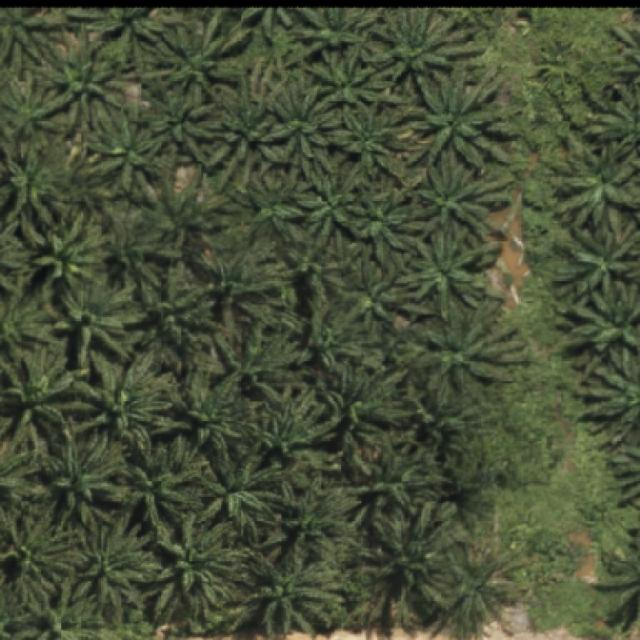Kelapa_Sawit: (20, 22, 125, 143), (409, 67, 523, 173), (34, 422, 132, 535), (138, 162, 233, 278), (361, 497, 457, 611), (418, 313, 532, 404), (72, 348, 179, 444), (150, 519, 256, 615), (107, 434, 208, 534), (399, 229, 506, 322), (244, 541, 345, 639), (150, 8, 252, 104), (537, 136, 638, 232), (46, 280, 151, 371), (16, 204, 115, 298), (165, 360, 263, 454), (83, 105, 169, 212), (194, 444, 301, 530), (208, 324, 312, 408), (68, 520, 162, 611), (373, 6, 485, 82), (275, 473, 362, 570), (443, 536, 525, 638), (349, 438, 454, 516), (413, 155, 507, 242), (127, 276, 228, 352), (189, 248, 286, 326), (319, 362, 421, 436), (209, 95, 294, 183), (268, 73, 352, 161), (244, 380, 342, 454), (102, 215, 184, 296), (141, 89, 217, 173), (340, 257, 428, 329), (336, 98, 422, 167), (286, 304, 368, 376), (300, 161, 374, 239), (346, 175, 414, 254), (312, 44, 396, 107), (234, 176, 308, 244), (282, 234, 349, 300)
